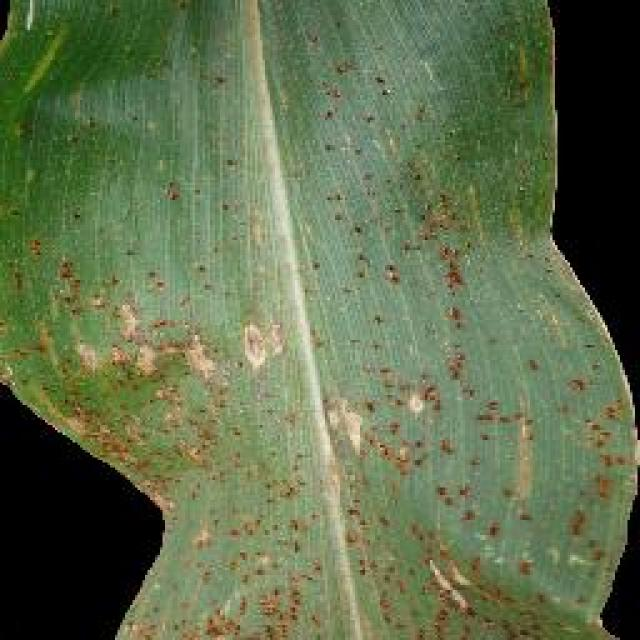Corn Common Rust: (100, 3, 575, 600)
